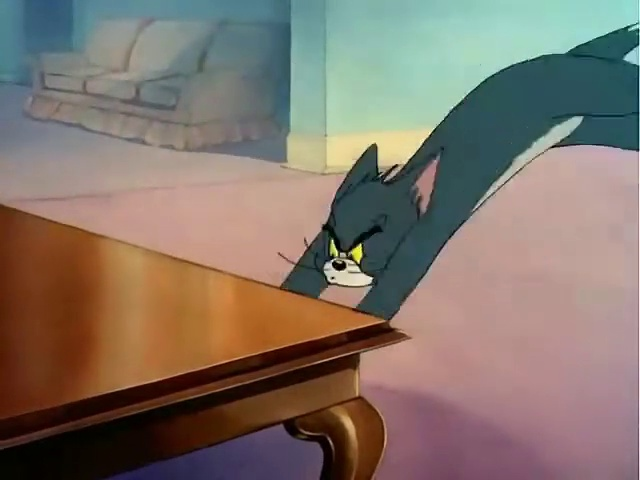tom: (204, 27, 636, 320)
